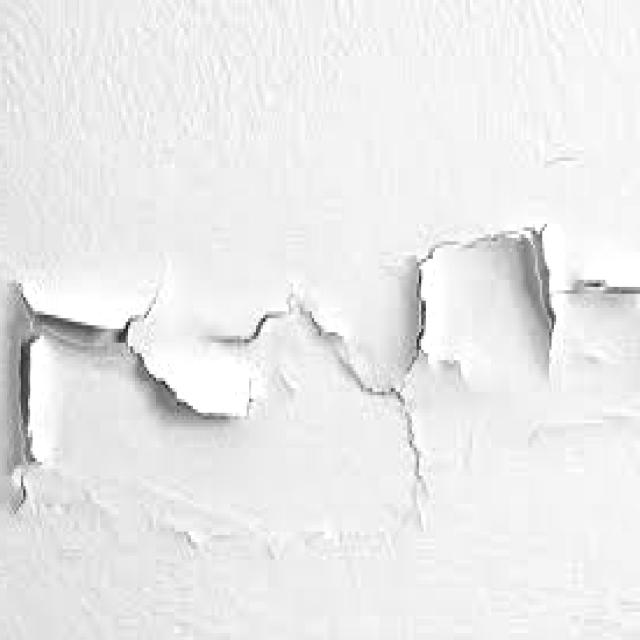peeling paint: (0, 198, 640, 526)
